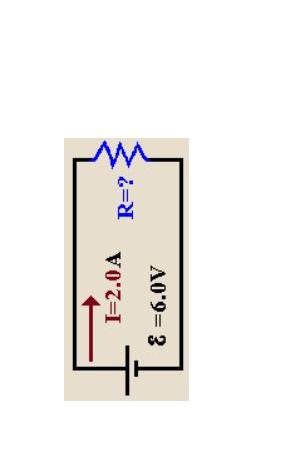resistor: (73, 128, 163, 172)
